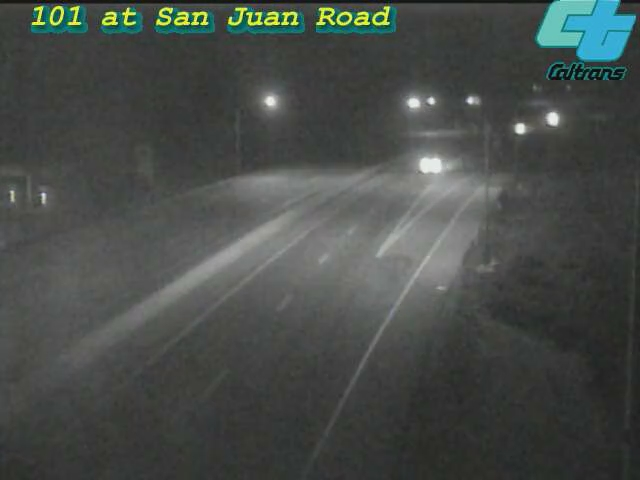vehicle: (21, 239, 101, 319), (391, 125, 471, 205), (495, 104, 545, 154), (528, 95, 578, 145)
